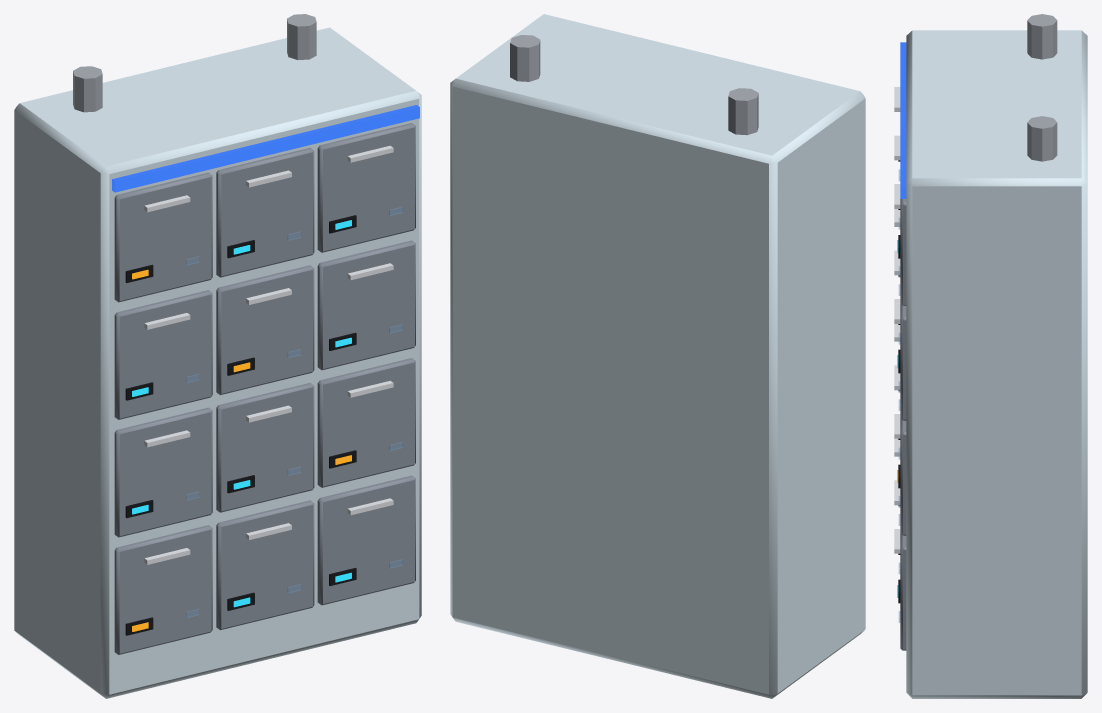
File: storage_cold_storage_locker.glb
The picture shows the model from 3 angles, left to right: view 1: azimuth 30°, elevation 25°; view 2: azimuth 150°, elevation 25°; view 3: azimuth 270°, elevation 25°; orthographic projection. The views are drawn at different scales.
Parts seen in each view (by area): view 1: storage_cold_storage_locker; view 2: storage_cold_storage_locker; view 3: storage_cold_storage_locker.
Part boxes in pixels (bbox=[...]): storage_cold_storage_locker: bbox=[14, 14, 421, 698]; storage_cold_storage_locker: bbox=[450, 14, 865, 698]; storage_cold_storage_locker: bbox=[894, 14, 1087, 698].
Size of the model in its own units: 1.2 by 2.02 by 0.64.
